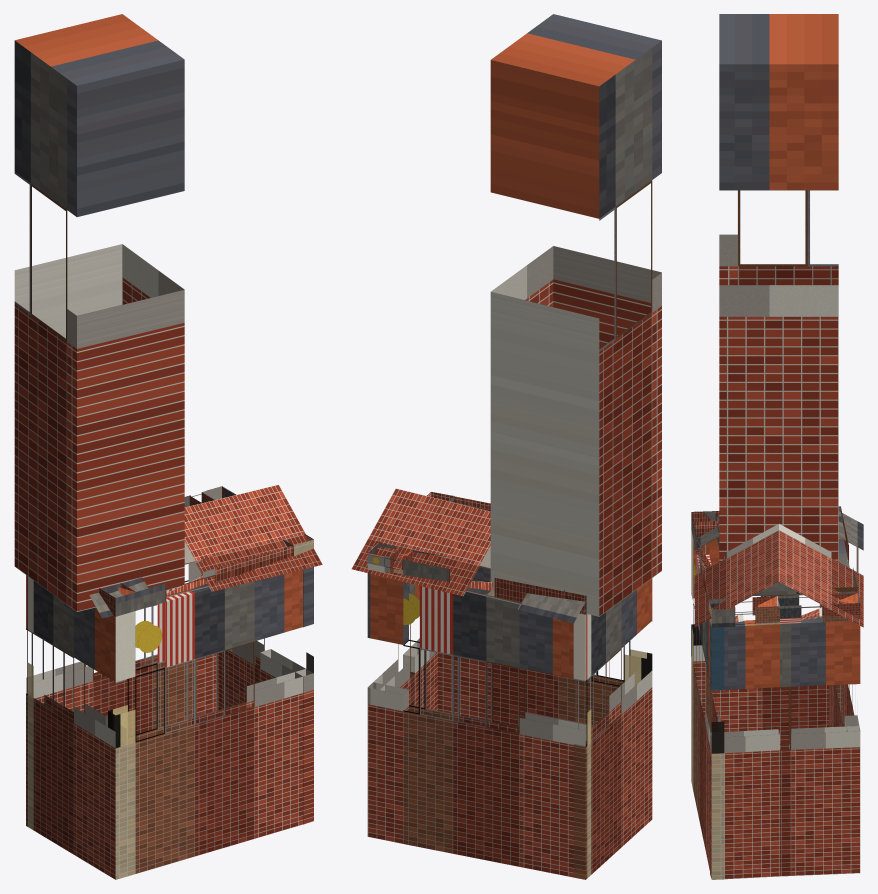
3 views of the same model, side by side, from view 1: azimuth 30°, elevation 25°; view 2: azimuth 150°, elevation 25°; view 3: azimuth 270°, elevation 25° (orthographic). The views are drawn at different scales.
Parts seen in each view (by area): view 1: 238568842__chimney_0_xb, 238568842__wall_5_xb, 238568842__wall_4_xb, 238568842_roof_-1_xb, 238568842__wall_3_xb, 238568842__wall_0_xb, 238568842__cornice_5, 238568842__wall_1_xb, 238568842__wall_2_xb, 238568842__wall_5_xf; view 2: 238568842__chimney_0_xb, 238568842__wall_3_xb, 238568842__wall_4_xb, 238568842_roof_1_xb, 238568842__wall_5_xb, 238568842__wall_2_xb, 238568842__cornice_3, 238568842__wall_0_xb, 238568842__wall_1_xb, 238568842__wall_5_xf; view 3: 238568842__chimney_0_xb, 238568842__wall_1_xb, 238568842__wall_0_xb, 238568842__wall_5_xb, 238568842__wall_4_xb, 238568842_roof_1_xb, 238568842_roof_-1_xb, 238568842__cornice_1, 238568842__wall_5_xf, 238568842__cornice_0, 238568842__cornice_5, 238568842__wall_3_xb (+1 smaller).
Part boxes in pixels (bbox=[...]): 238568842__chimney_0_xb: bbox=[14, 14, 184, 611]; 238568842__wall_5_xb: bbox=[108, 569, 313, 879]; 238568842__wall_4_xb: bbox=[26, 575, 126, 879]; 238568842_roof_-1_xb: bbox=[89, 484, 322, 618]; 238568842__wall_3_xb: bbox=[26, 576, 197, 830]; 238568842__wall_0_xb: bbox=[260, 567, 313, 824]; 238568842__cornice_5: bbox=[101, 534, 310, 616]; 238568842__wall_1_xb: bbox=[218, 638, 264, 709]; 238568842__wall_2_xb: bbox=[197, 653, 218, 716]; 238568842__wall_5_xf: bbox=[108, 653, 313, 747]; 238568842__chimney_0_xb: bbox=[490, 14, 661, 616]; 238568842__wall_3_xb: bbox=[403, 586, 591, 879]; 238568842__wall_4_xb: bbox=[573, 578, 652, 879]; 238568842_roof_1_xb: bbox=[351, 488, 585, 623]; 238568842__wall_5_xb: bbox=[438, 566, 652, 727]; 238568842__wall_2_xb: bbox=[367, 573, 408, 843]; 238568842__cornice_3: bbox=[403, 550, 586, 614]; 238568842__wall_0_xb: bbox=[403, 585, 437, 710]; 238568842__wall_1_xb: bbox=[373, 583, 414, 706]; 238568842__wall_5_xf: bbox=[625, 650, 651, 685]; 238568842__chimney_0_xb: bbox=[719, 14, 838, 561]; 238568842__wall_1_xb: bbox=[780, 617, 860, 876]; 238568842__wall_0_xb: bbox=[710, 620, 779, 879]; 238568842__wall_5_xb: bbox=[691, 530, 724, 879]; 238568842__wall_4_xb: bbox=[691, 539, 841, 743]; 238568842_roof_1_xb: bbox=[779, 511, 863, 627]; 238568842_roof_-1_xb: bbox=[694, 516, 778, 627]; 238568842__cornice_1: bbox=[777, 593, 860, 623]; 238568842__wall_5_xf: bbox=[692, 564, 723, 753]; 238568842__cornice_0: bbox=[708, 596, 779, 626]; 238568842__cornice_5: bbox=[691, 511, 735, 627]; 238568842__wall_3_xb: bbox=[829, 537, 854, 726].
Size of the model in its own units: 0.3244 by 1.05 by 0.2163.
1 material, 1 textured.
